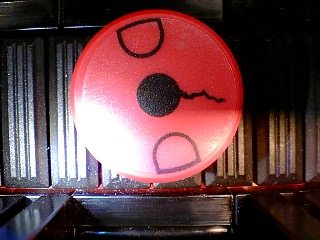CRACK: (69, 9, 244, 183)
